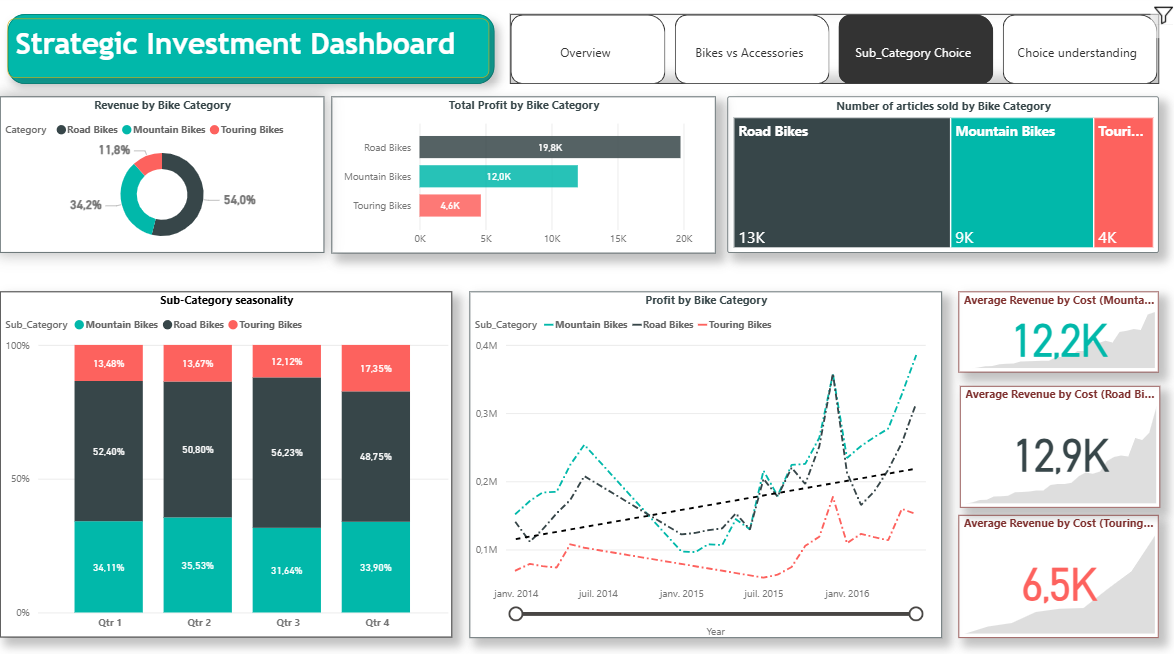

The page's visual inventory and layout, read from the dashboard file:
{"tool":"powerbi","page":{"name":"Sub_Category Choice","canvas":[1280,720],"ordinal":2},"visuals":[{"type":"donutChart","title":"Revenue by Bike Category","fields":{"Y":["Sum(sales_bicycles (1).Revenue)"],"Category":["sales_bicycles (1).Sub_Category"]},"box":[9.7,111.7,349.8,168.8],"z":0},{"type":"clusteredBarChart","title":"Total Profit by Bike Category","fields":{"Category":["sales_bicycles (1).Sub_Category"],"Y":["Sum(sales_bicycles (1).Order_Quantity)"]},"box":[368.2,111.5,414.7,169.6],"z":1000},{"type":"treemap","title":"Number of articles sold by Bike Category","fields":{"Values":["CountNonNull(sales_bicycles (1).ID)"],"Group":["sales_bicycles (1).Sub_Category"]},"box":[795.4,111.7,465.1,168.8],"z":2000},{"type":"lineChart","title":"Profit by Bike Category","fields":{"Y":["Sum(sales_bicycles (1).Profit)"],"Series":["sales_bicycles (1).Sub_Category"],"Category":["sales_bicycles (1).Date.Variation.Date Hierarchy.Year","sales_bicycles (1).Date.Variation.Date Hierarchy.Quarter","sales_bicycles (1).Date.Variation.Date Hierarchy.Month"]},"box":[516.9,321.7,509.9,374],"z":3000},{"type":"kpi","title":"Average Revenue by Cost (Mountain Bikes)","fields":{"Indicator":["Avg(sales_bicycles (1).Revenue)"],"TrendLine":["sales_bicycles (1).Cost"]},"box":[1044.2,321.7,216,87.1],"z":4000},{"type":"shape","box":[17.9,21.9,525.8,75.7],"z":5000},{"type":"textbox","box":[17.9,27.9,519.8,63.7],"z":6000},{"type":"kpi","title":"Average Revenue by Cost (Road Bikes)","fields":{"Indicator":["Avg(sales_bicycles (1).Revenue)"],"TrendLine":["sales_bicycles (1).Cost"]},"box":[1045.4,424,216,131.3],"z":7000},{"type":"kpi","title":"Average Revenue by Cost (Touring Bikes)","fields":{"Indicator":["Avg(sales_bicycles (1).Revenue)"],"TrendLine":["sales_bicycles (1).Cost"]},"box":[1044.4,563.5,216.2,132.4],"z":8000},{"type":"pageNavigator","box":[561.1,21.9,700.7,75.3],"z":9000},{"type":"hundredPercentStackedColumnChart","title":"Sub-Category seasonality","fields":{"Category":["sales_bicycles (1).Date.Variation.Date Hierarchy.Quarter"],"Y":["CountNonNull(sales_bicycles (1).Sub_Category)"],"Series":["sales_bicycles (1).Sub_Category"]},"box":[9.7,321.9,488.3,373.5],"z":10000},{"type":"actionButton","box":[1251.7,0,28.3,49],"z":11000}]}

Visuals, with their boxes in screenshot pixels (x1, y1, x2, y2), scaled from the page's 1280x720 canvas onto the 1174x654 screenshot:
"Revenue by Bike Category" donutChart: box(9, 101, 330, 255)
"Total Profit by Bike Category" clusteredBarChart: box(338, 101, 718, 255)
"Number of articles sold by Bike Category" treemap: box(730, 101, 1156, 255)
"Profit by Bike Category" lineChart: box(474, 292, 942, 632)
"Average Revenue by Cost (Mountain Bikes)" kpi: box(958, 292, 1156, 371)
shape: box(16, 20, 499, 89)
textbox: box(16, 25, 493, 83)
"Average Revenue by Cost (Road Bikes)" kpi: box(959, 385, 1157, 504)
"Average Revenue by Cost (Touring Bikes)" kpi: box(958, 512, 1156, 632)
pageNavigator: box(515, 20, 1157, 88)
"Sub-Category seasonality" hundredPercentStackedColumnChart: box(9, 292, 457, 632)
actionButton: box(1148, 0, 1173, 45)
